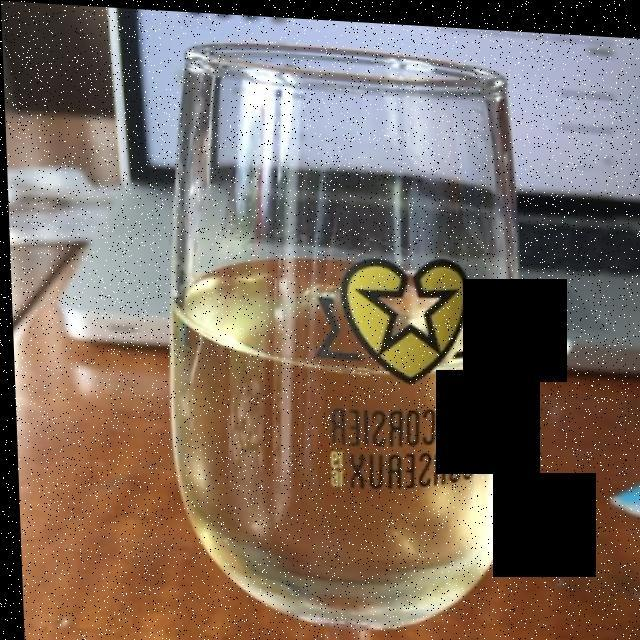wine: (151, 249, 518, 629)
